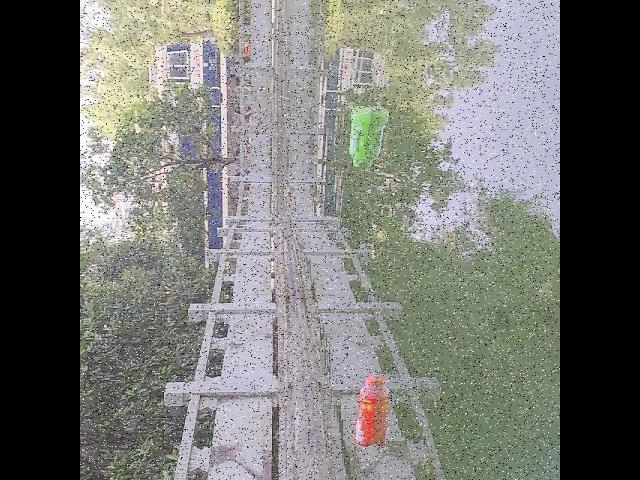Bottle: (342, 360, 392, 452), (340, 96, 390, 177)
